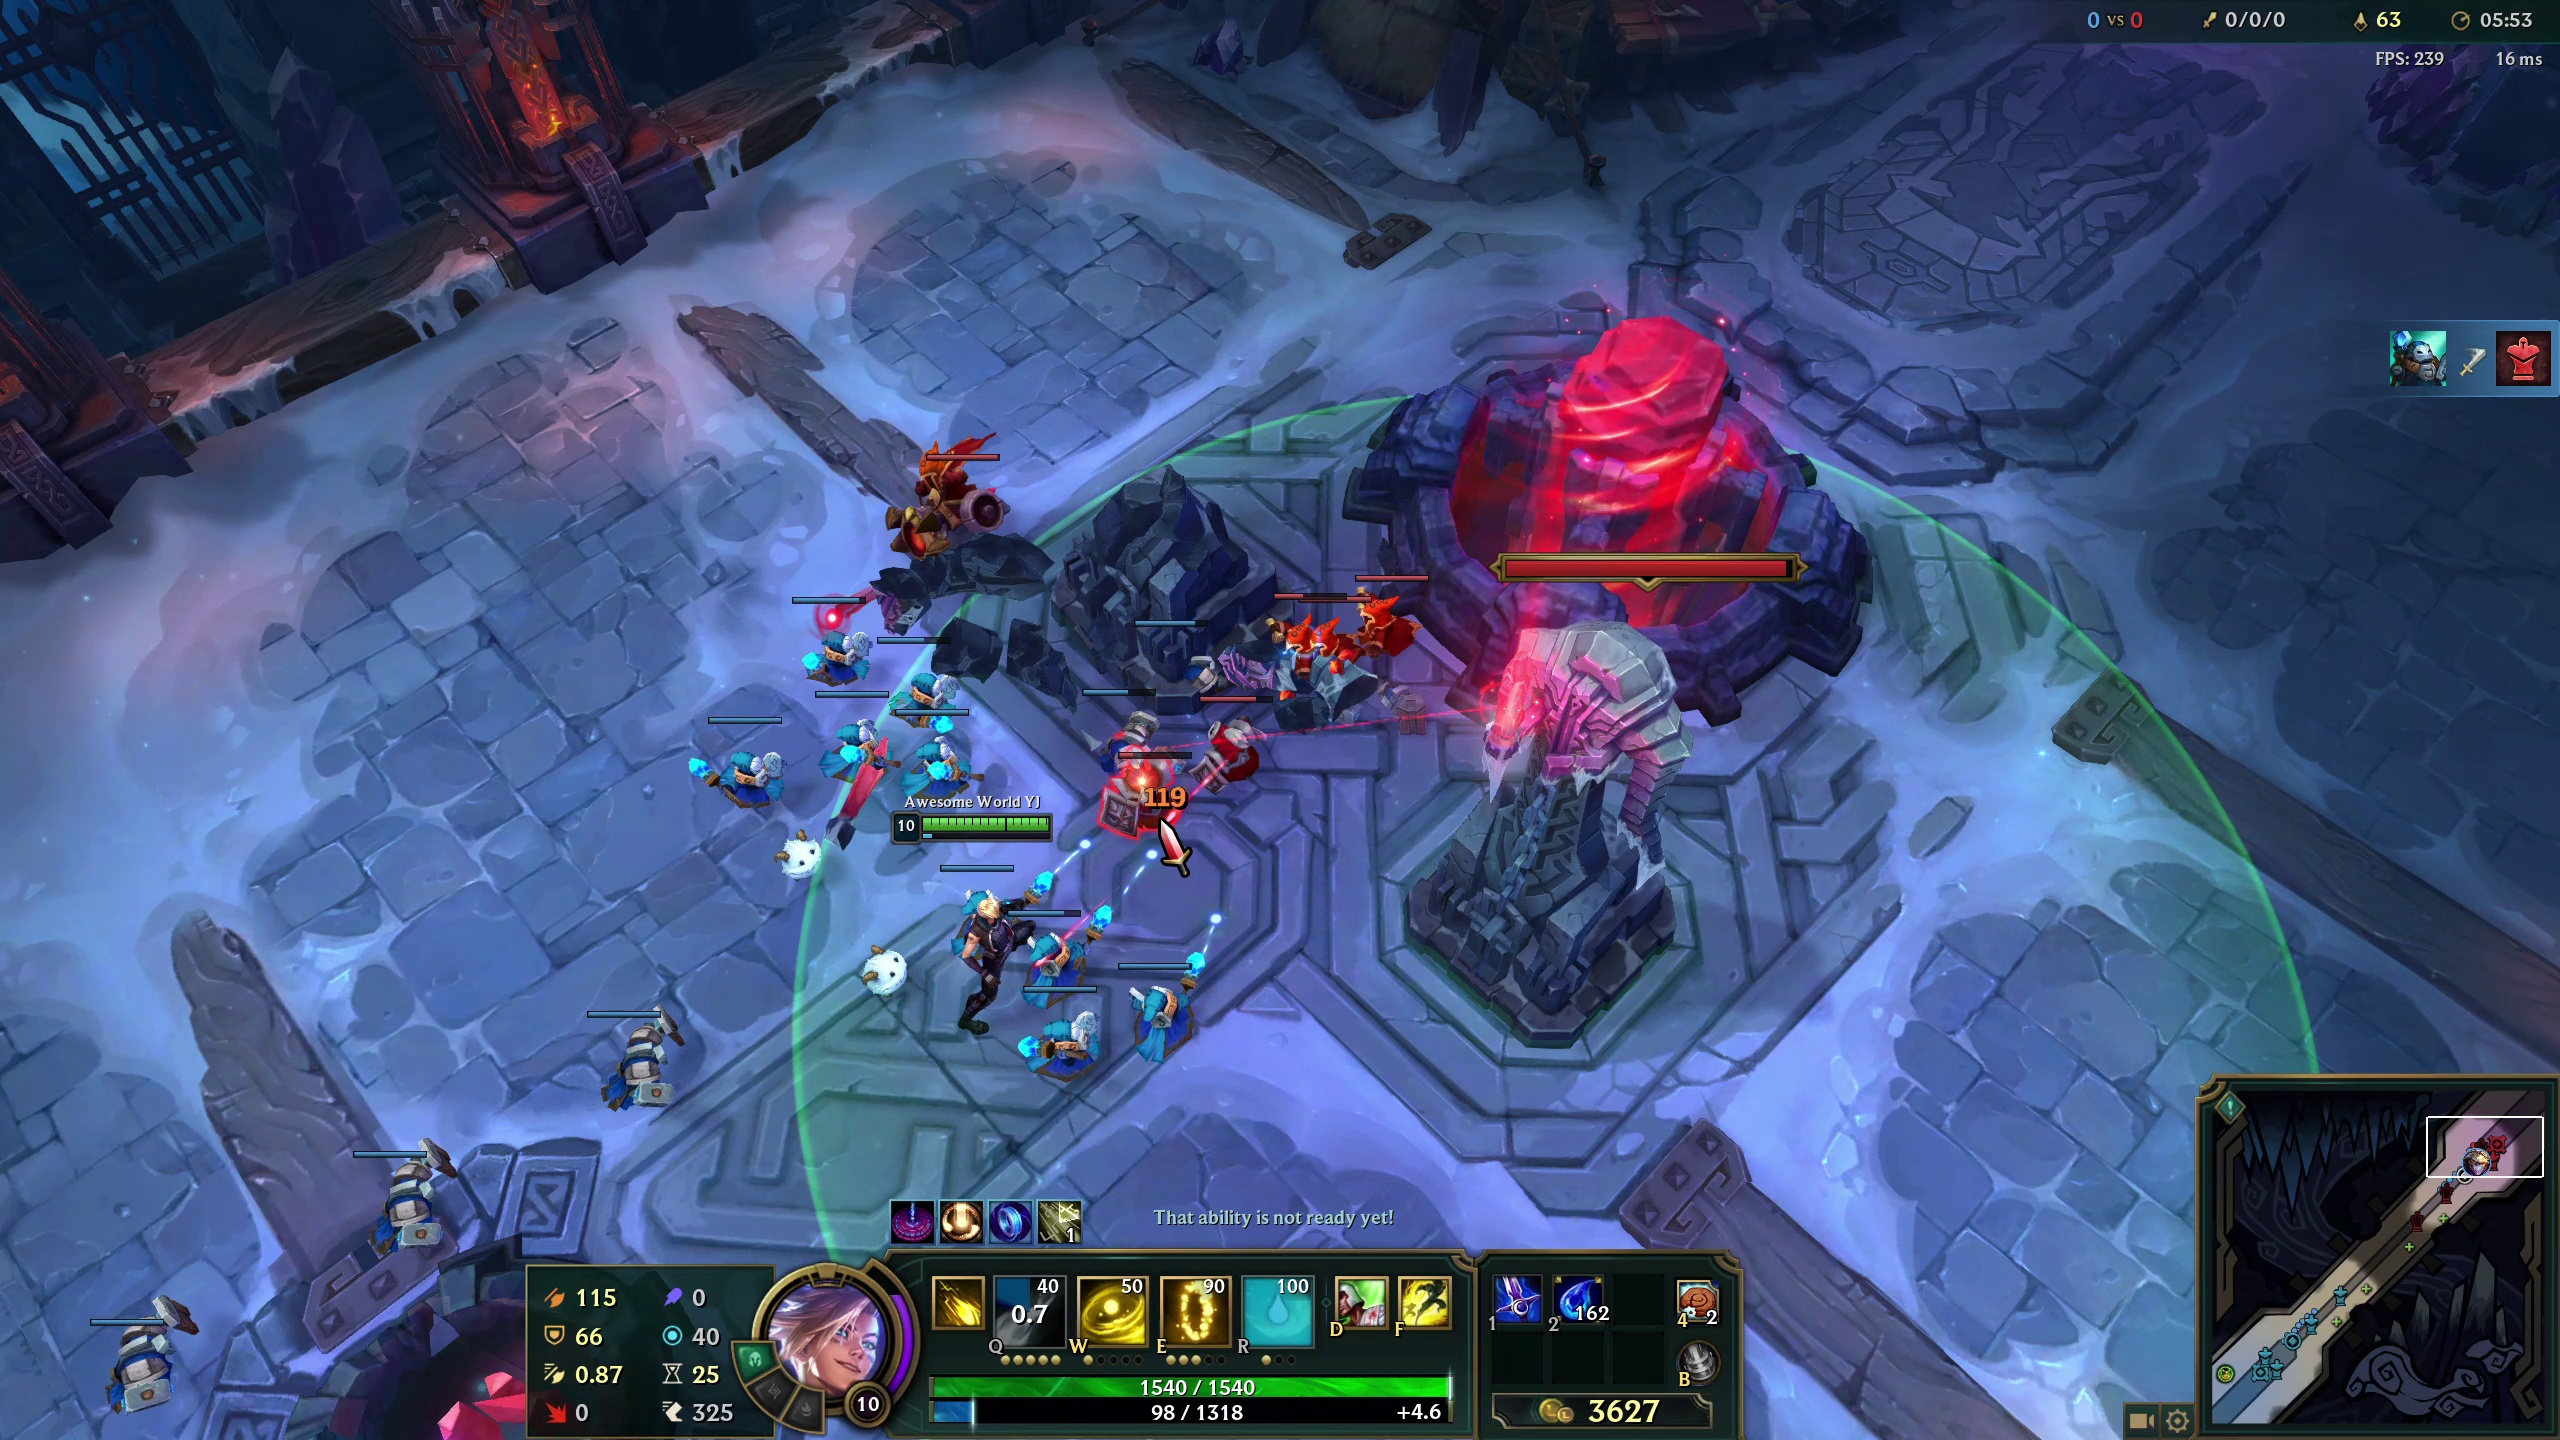EZ: (870, 870, 967, 1002)
EnemyMinion: (1359, 566, 1444, 663), (1203, 684, 1287, 781), (1259, 580, 1343, 675)
EnemySuperMinnion: (881, 438, 1022, 556)
Inhibitor: (1444, 325, 1830, 624)
MyMinion: (70, 1292, 197, 1412), (999, 886, 1125, 1006), (339, 1125, 466, 1243), (997, 981, 1124, 1099), (1122, 942, 1248, 1060), (593, 993, 717, 1111), (890, 703, 993, 809), (800, 686, 904, 789), (781, 587, 883, 693), (687, 721, 789, 825), (884, 645, 956, 719), (1088, 675, 1160, 749)
Turret: (1484, 636, 1656, 1029)
